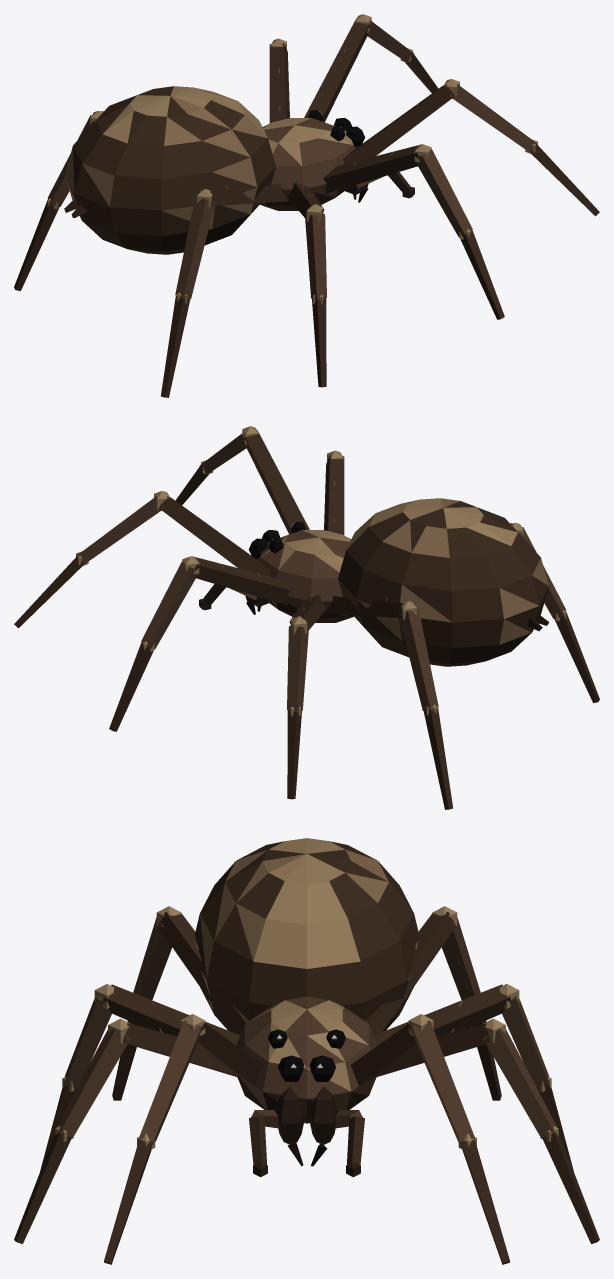
File: creatures-wolf-spider-rearing.glb
3 views of the same model, one above another, from view 1: azimuth 30°, elevation 25°; view 2: azimuth 150°, elevation 25°; view 3: azimuth 270°, elevation 25° (orthographic). The views are drawn at different scales.
Bounding box in the file's own units: 35.02 × 16.89 × 30.33.
